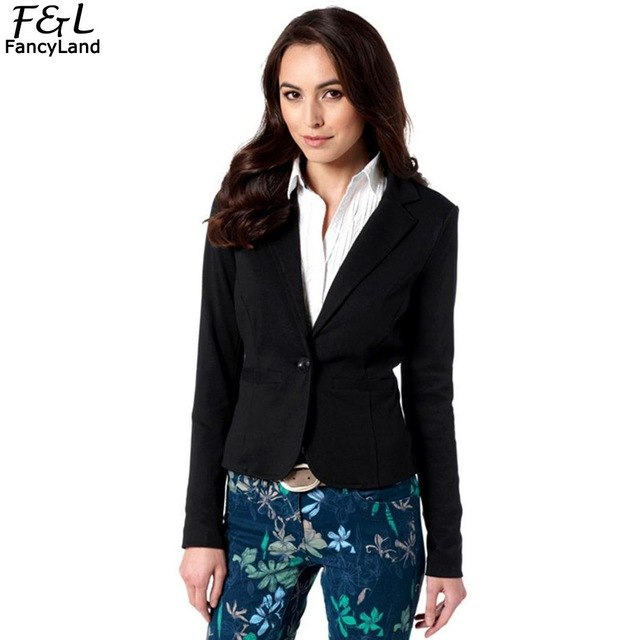F_W_suit jacket: (185, 152, 464, 555)
